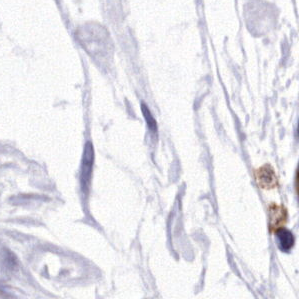Lymphocyte: (253, 162, 281, 190)
